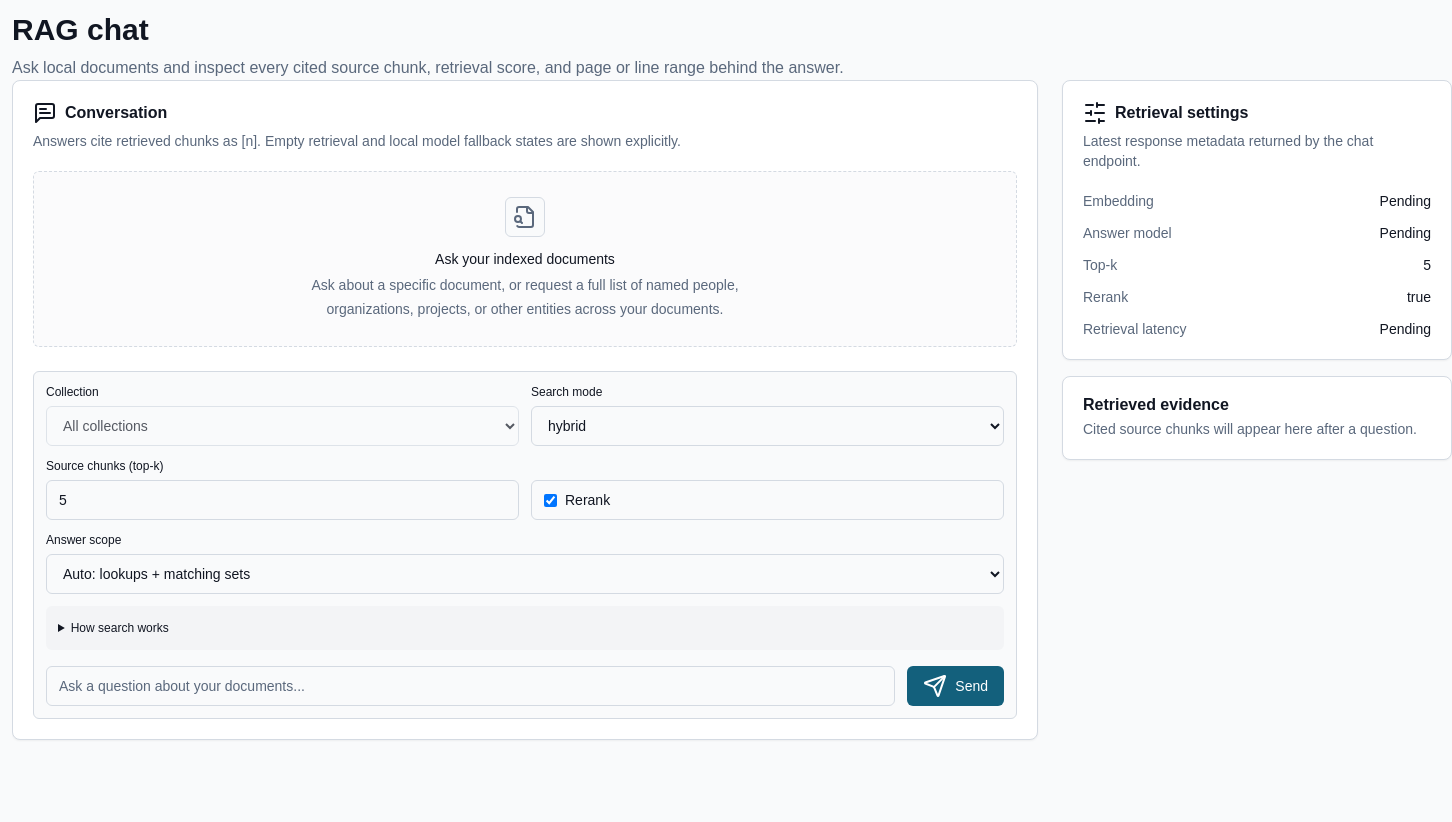
retrieval and citation reporting › shows the strategy that actually ran and the citation verdict
The width and height of the screenshot is (1452, 822).
Type "What is validated?" into the field with placeholder "Ask a question about your documents..." at x=471, y=686, box [46, 666, 895, 706]
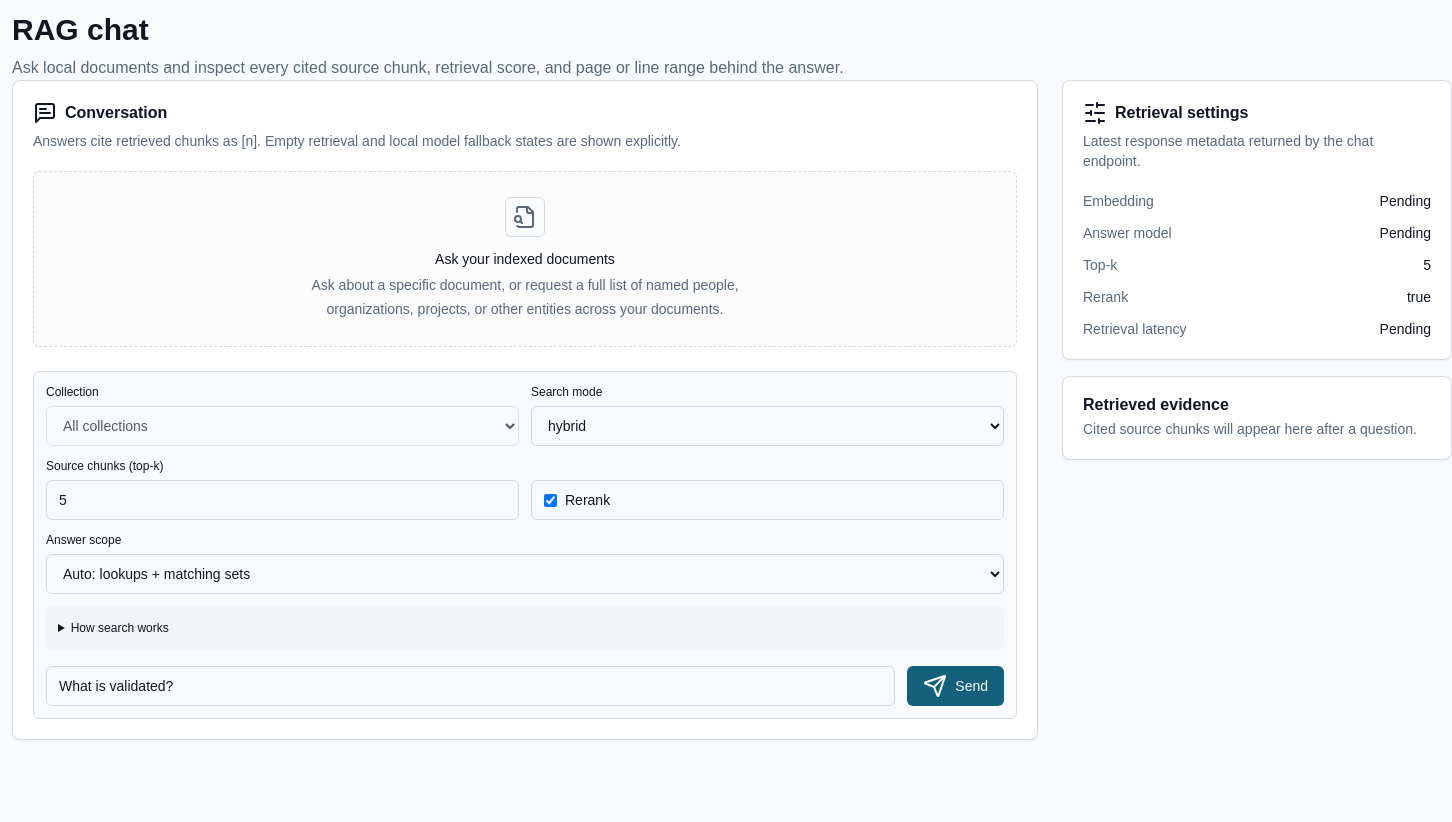
Click the button "Send" at x=956, y=686, box [907, 666, 1004, 706]
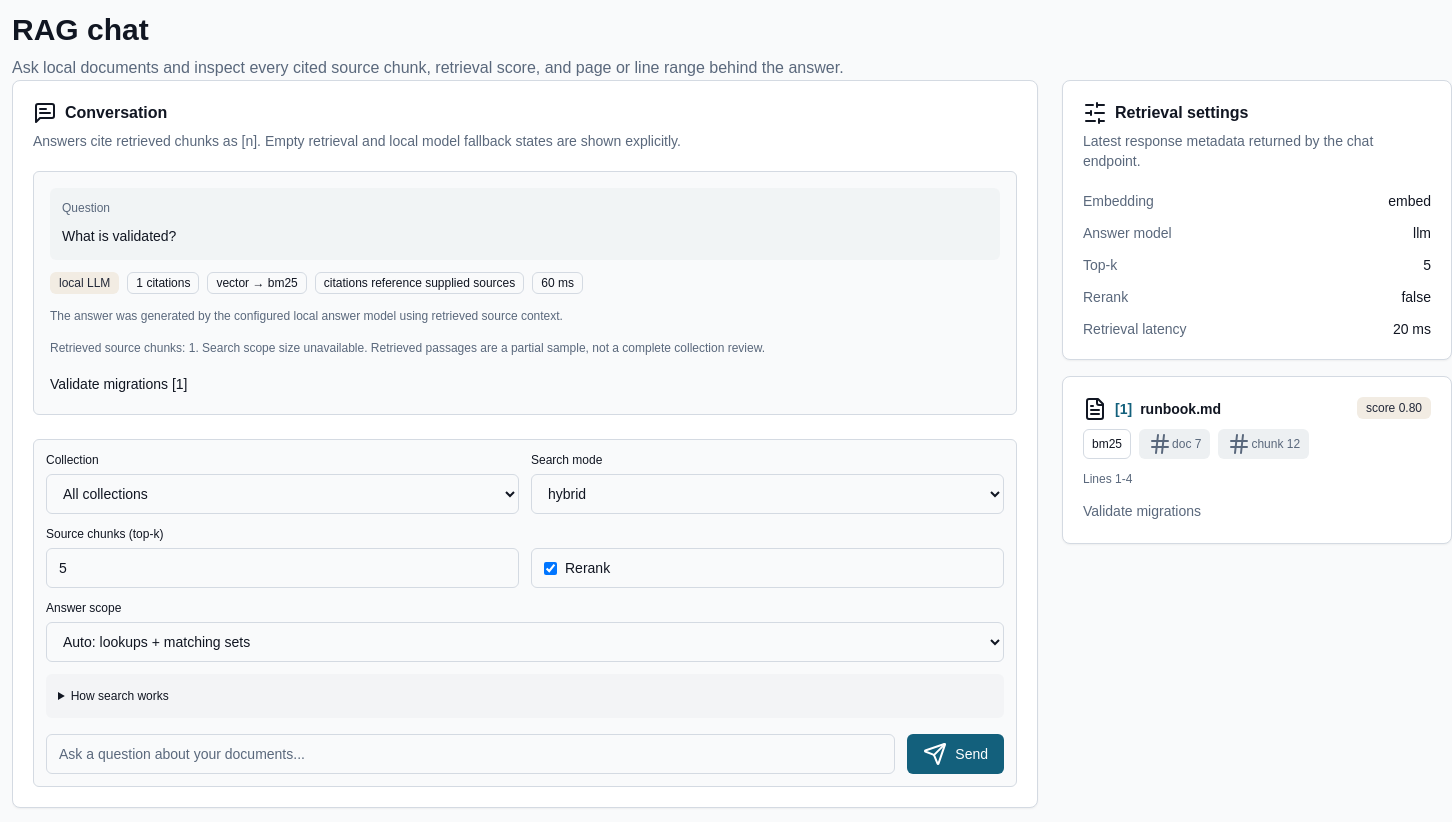
expect the text "citations reference supplied sources" is shown: met, box [315, 272, 524, 294]
